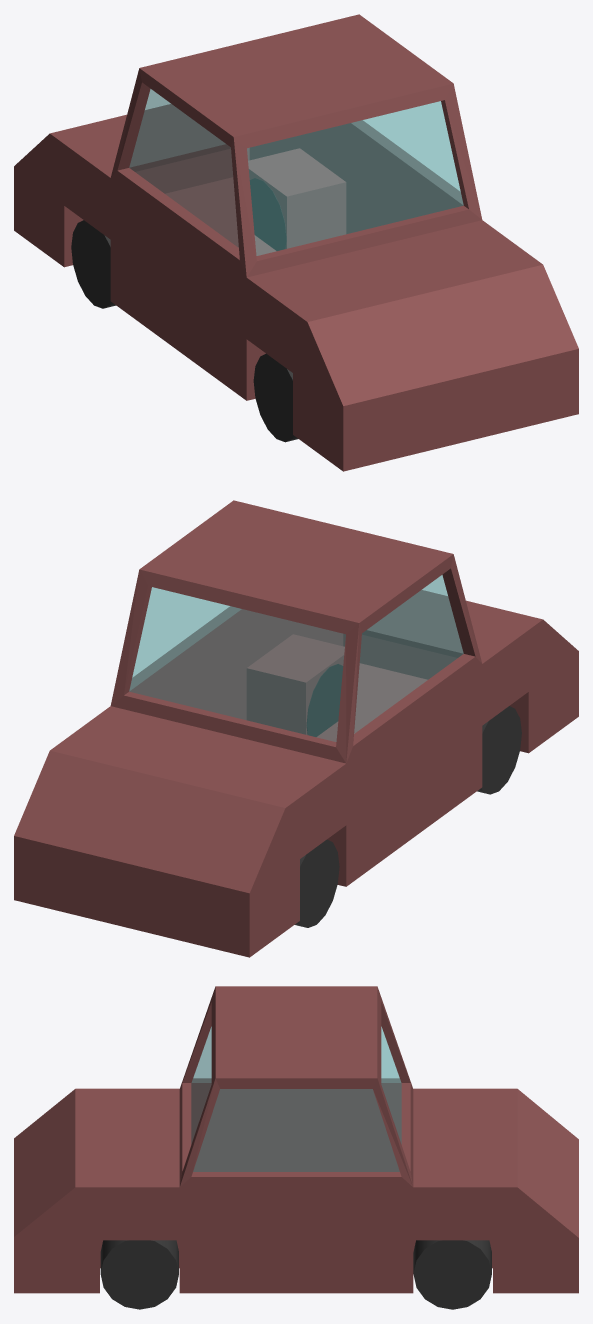
The model's file is car.fbx.
3 views of the same model, one above another, from view 1: azimuth 30°, elevation 25°; view 2: azimuth 150°, elevation 25°; view 3: azimuth 270°, elevation 25° (orthographic). The views are drawn at different scales.
Parts seen in each view (by area): view 1: Carbody, Wheel3, Wheel2, Wheel1; view 2: Carbody, Wheel2, Wheel3, Wheel4; view 3: Carbody, Wheel1, Wheel4.
Part boxes in pixels (left/top/right/bottom): Carbody: left=14, top=14, right=578, bottom=471; Wheel3: left=71, top=220, right=115, bottom=308; Wheel2: left=253, top=353, right=297, bottom=442; Wheel1: left=250, top=178, right=286, bottom=250; Carbody: left=14, top=500, right=578, bottom=957; Wheel2: left=477, top=706, right=521, bottom=794; Wheel3: left=295, top=839, right=339, bottom=927; Wheel4: left=306, top=664, right=343, bottom=736; Carbody: left=14, top=986, right=578, bottom=1293; Wheel1: left=413, top=1240, right=491, bottom=1309; Wheel4: left=100, top=1240, right=178, bottom=1309.
Bounding box in the file's own units: 1 × 1.09 × 2.42.
